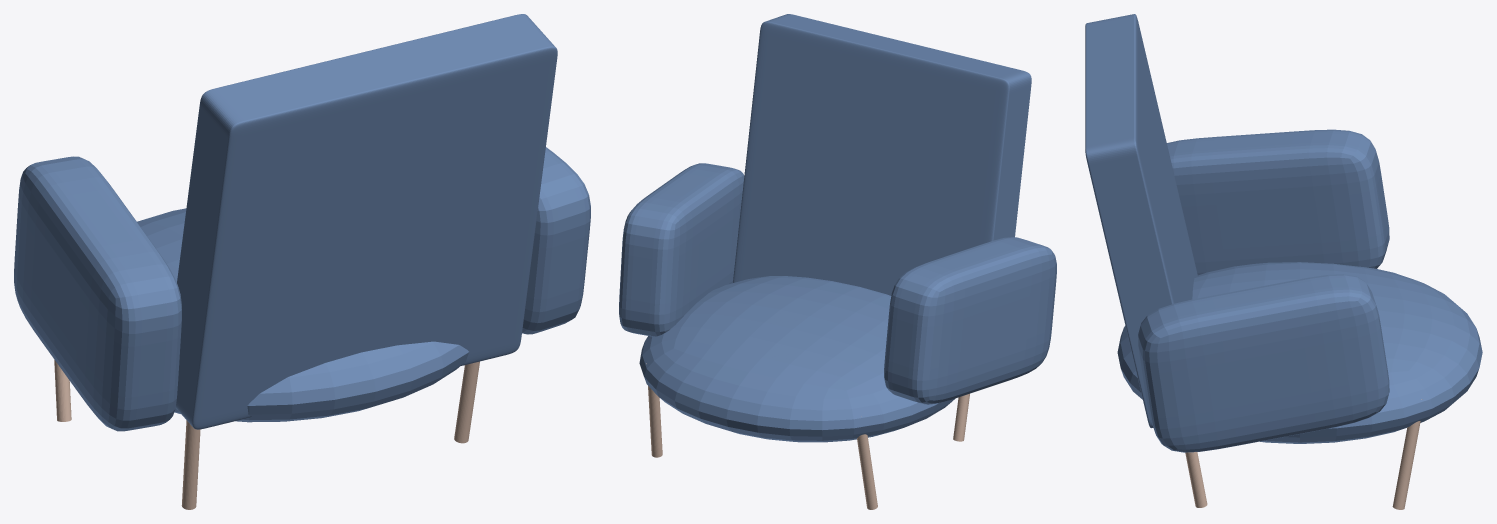
3 views of the same model, side by side, from view 1: azimuth 30°, elevation 25°; view 2: azimuth 150°, elevation 25°; view 3: azimuth 270°, elevation 25° (orthographic). The views are drawn at different scales.
Visible parts, largest first — view 1: Backrest, Left_Armrest, Seat_Cushion, Right_Armrest, Back_Left_Leg, Back_Right_Leg, Front_Left_Leg; view 2: Backrest, Seat_Cushion, Left_Armrest, Right_Armrest, Front_Left_Leg, Front_Right_Leg, Back_Left_Leg; view 3: Right_Armrest, Left_Armrest, Backrest, Seat_Cushion, Front_Right_Leg, Back_Right_Leg.
Part boxes in pixels (x1,y1,x2,y2): Backrest: (175,14,557,429); Left_Armrest: (14,156,181,431); Seat_Cushion: (137,208,468,422); Right_Armrest: (522,147,590,334); Back_Left_Leg: (181,420,200,509); Back_Right_Leg: (454,361,479,443); Front_Left_Leg: (54,360,71,421); Backrest: (733,14,1031,295); Seat_Cushion: (639,276,955,442); Left_Armrest: (884,237,1056,404); Right_Armrest: (619,163,744,336); Front_Left_Leg: (857,416,877,509); Front_Right_Leg: (646,363,662,457); Back_Left_Leg: (953,393,969,441); Right_Armrest: (1138,274,1389,452); Left_Armrest: (1167,129,1389,275); Backrest: (1085,14,1197,428); Seat_Cushion: (1117,262,1482,443); Front_Right_Leg: (1392,399,1422,509); Back_Right_Leg: (1185,452,1207,507).
Bounding box in the file's own units: 1.88 × 1.71 × 1.64.
